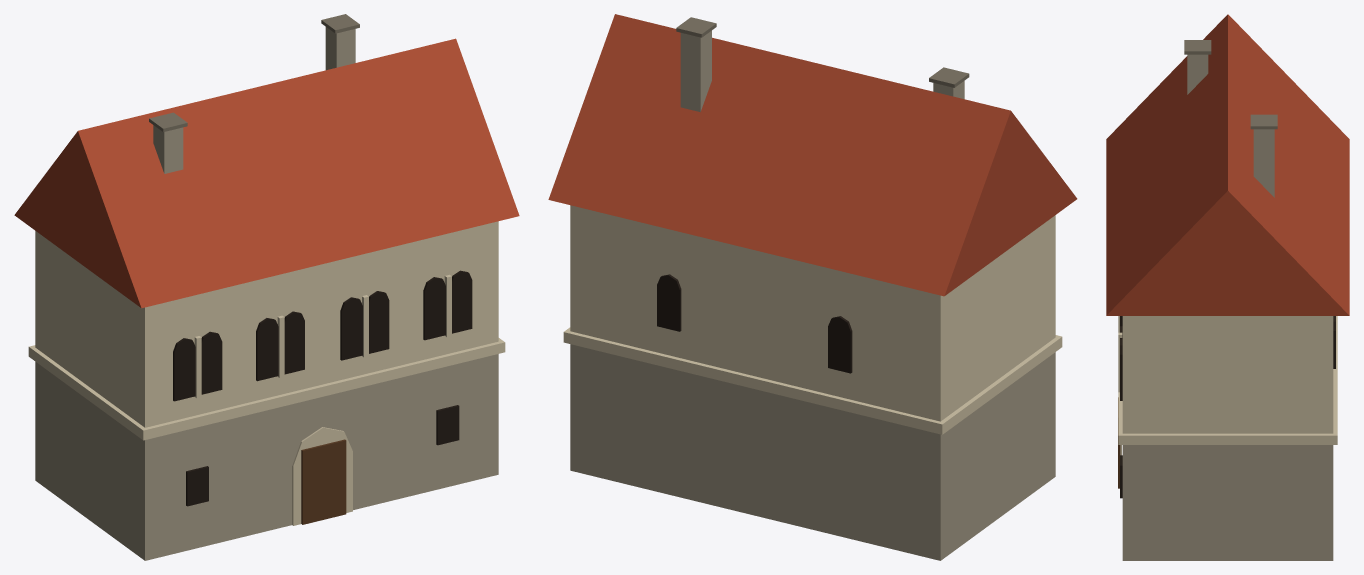
File: castle_palas.glb
3 renders of one model, left to right at view 1: azimuth 30°, elevation 25°; view 2: azimuth 150°, elevation 25°; view 3: azimuth 270°, elevation 25°, orthographic. The views are drawn at different scales.
Visible parts, largest first — view 1: castle_palas; view 2: castle_palas; view 3: castle_palas.
Part boxes in pixels (bbox=[...]): castle_palas: bbox=[14, 14, 519, 560]; castle_palas: bbox=[548, 14, 1077, 560]; castle_palas: bbox=[1106, 14, 1349, 560].
Size of the model in its own units: 13.9 by 14.72 by 8.1.
